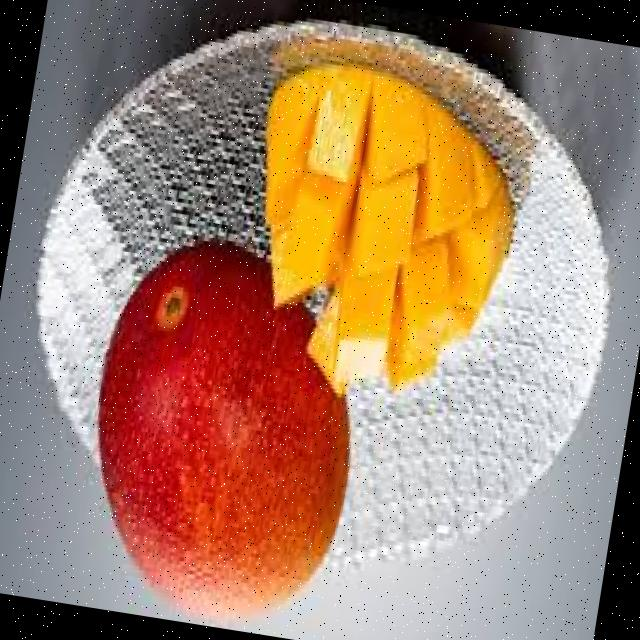mango: (264, 57, 514, 389)
